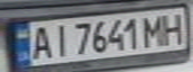1: (121, 15, 142, 49)
4: (106, 16, 127, 52)
6: (90, 17, 112, 53)
7: (69, 19, 93, 56)
A: (27, 22, 54, 60)
H: (157, 10, 190, 45)
I: (48, 21, 72, 57)
M: (139, 11, 169, 47)
